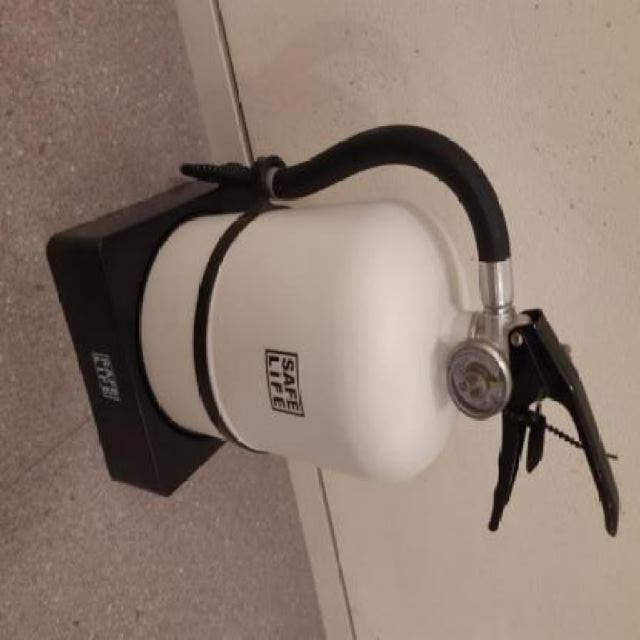fire extinguisher: (142, 125, 623, 538)
